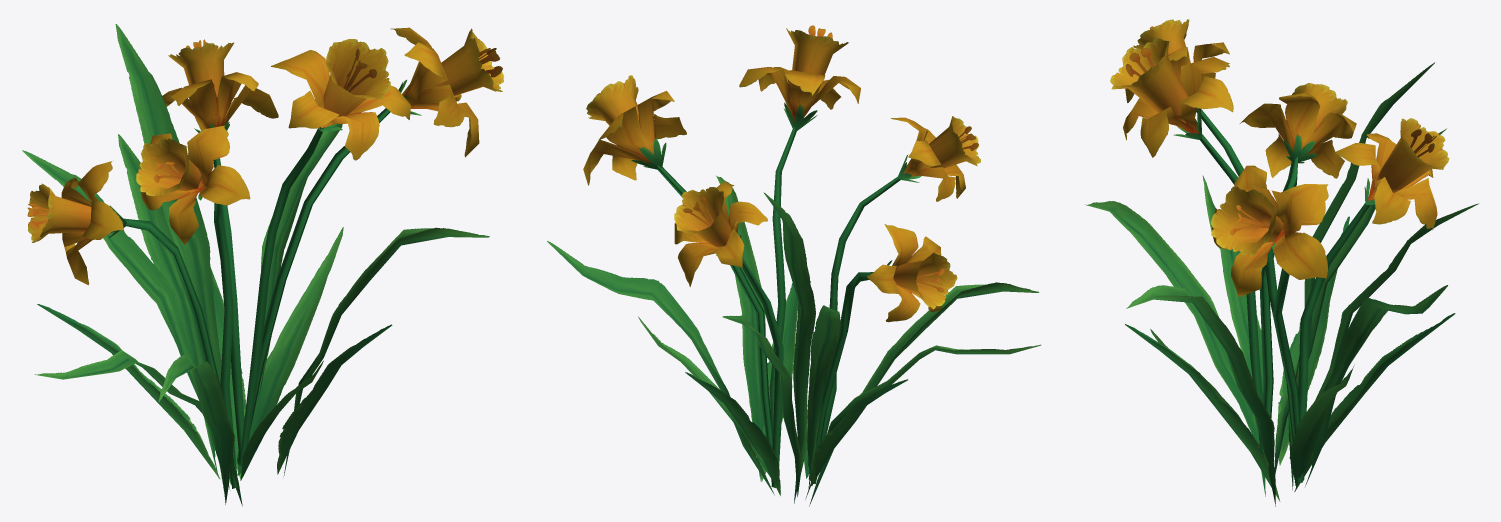
Rendered from MSH_FWOF_Flower_Large_A_03.fbx.
The picture shows the model from 3 angles, left to right: view 1: azimuth 30°, elevation 25°; view 2: azimuth 150°, elevation 25°; view 3: azimuth 270°, elevation 25°; orthographic projection. The views are drawn at different scales.
Visible parts, largest first — view 1: MSH_FWOF_Flower_Large_A_03; view 2: MSH_FWOF_Flower_Large_A_03; view 3: MSH_FWOF_Flower_Large_A_03.
Part boxes in pixels (x1=…): MSH_FWOF_Flower_Large_A_03: x1=22, y1=24, x2=503, y2=506; MSH_FWOF_Flower_Large_A_03: x1=547, y1=25, x2=1040, y2=506; MSH_FWOF_Flower_Large_A_03: x1=1085, y1=19, x2=1478, y2=506.
Bounding box in the file's own units: 0.8051 × 0.7535 × 0.5768.
